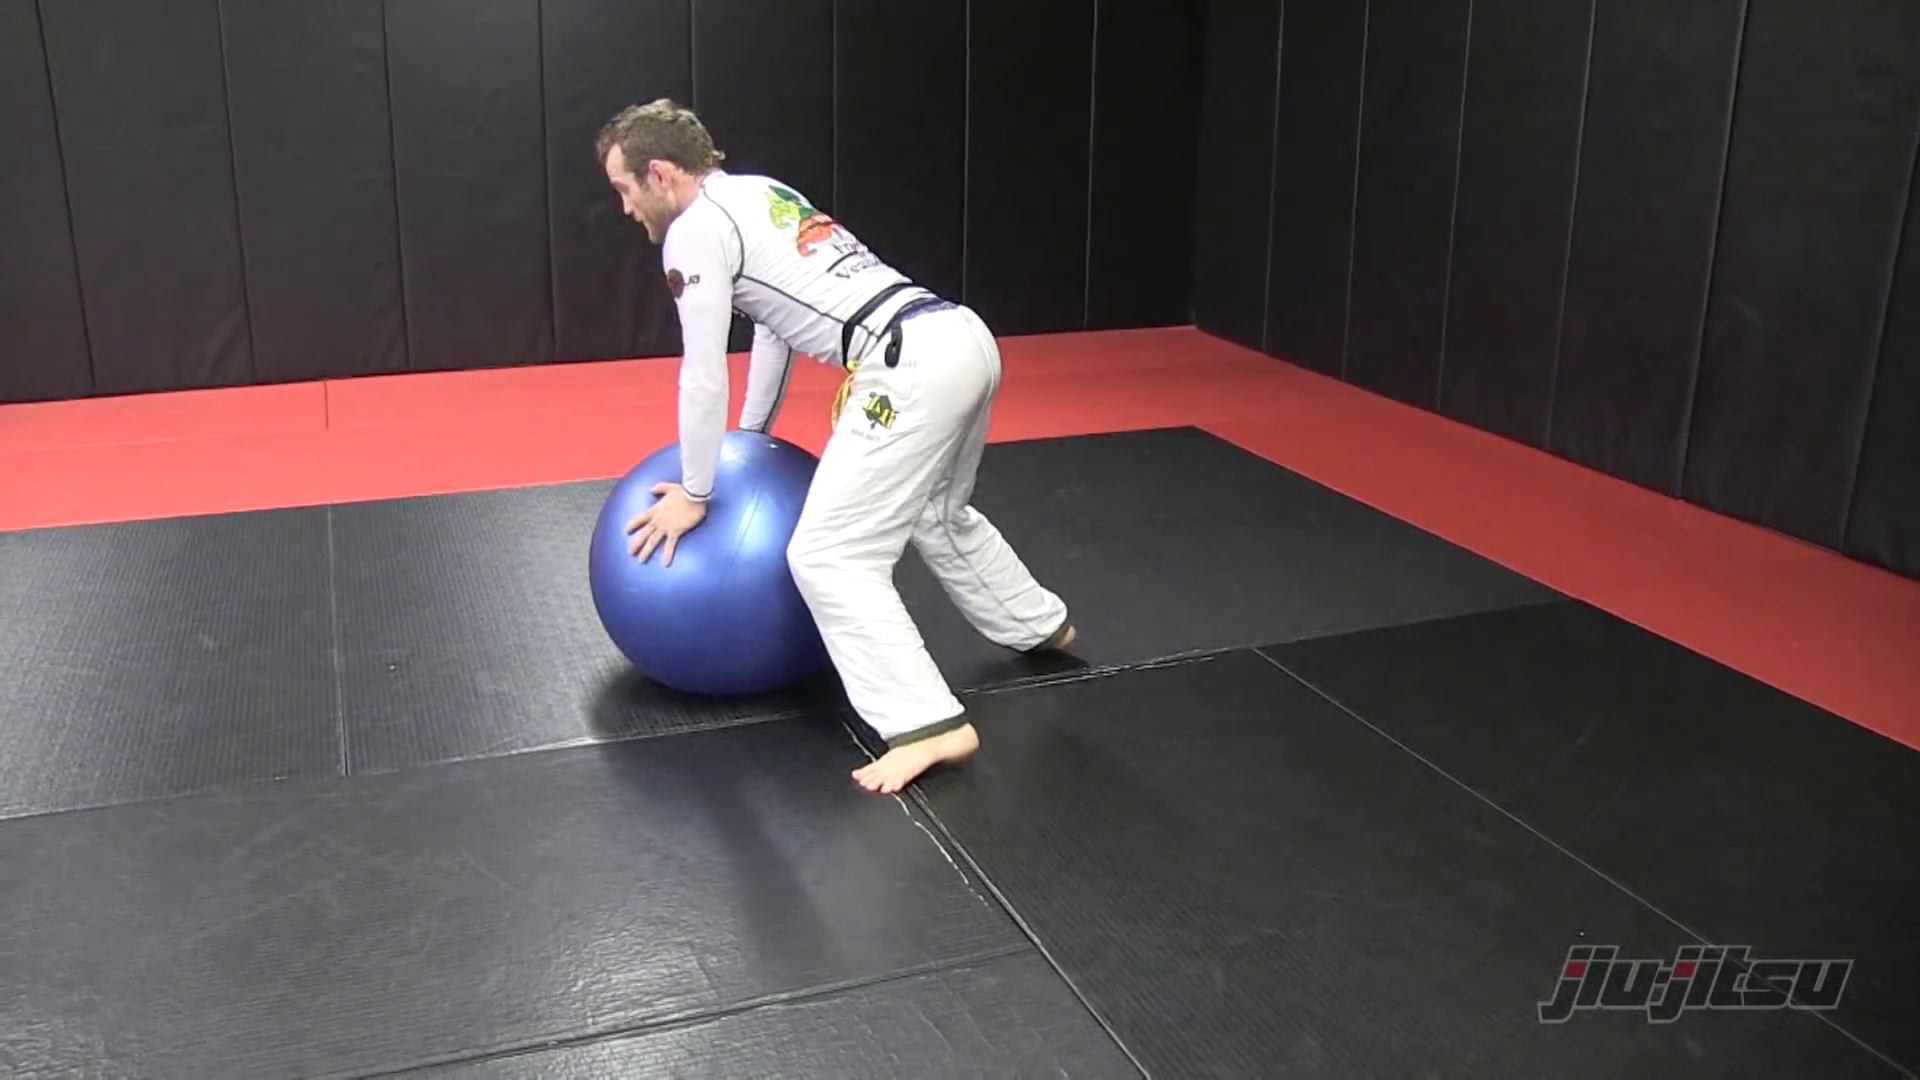yogaball: (570, 422, 903, 727)
